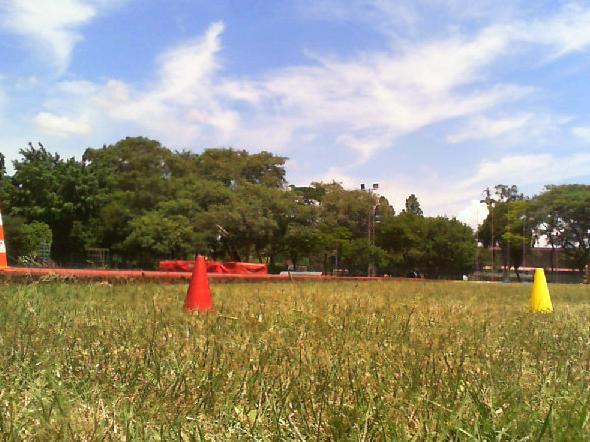0 cone: (183, 258, 213, 310), (0, 199, 18, 271), (530, 268, 553, 313)
